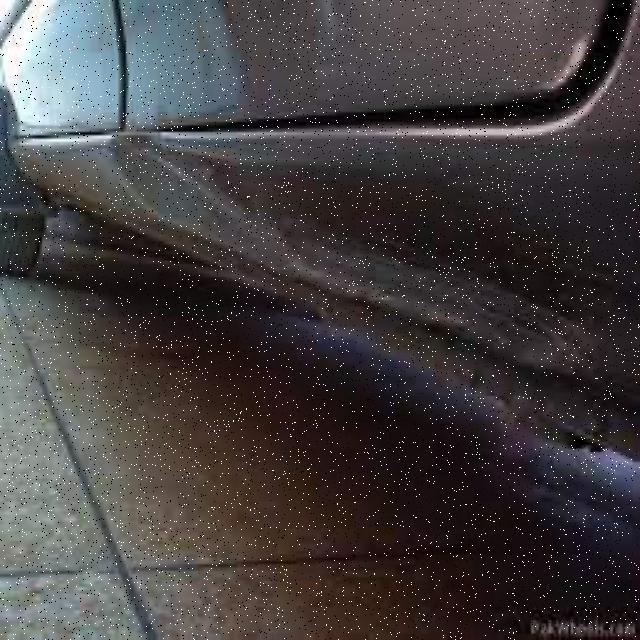RunningBoard-Dent: (331, 228, 638, 419), (88, 138, 396, 288)
